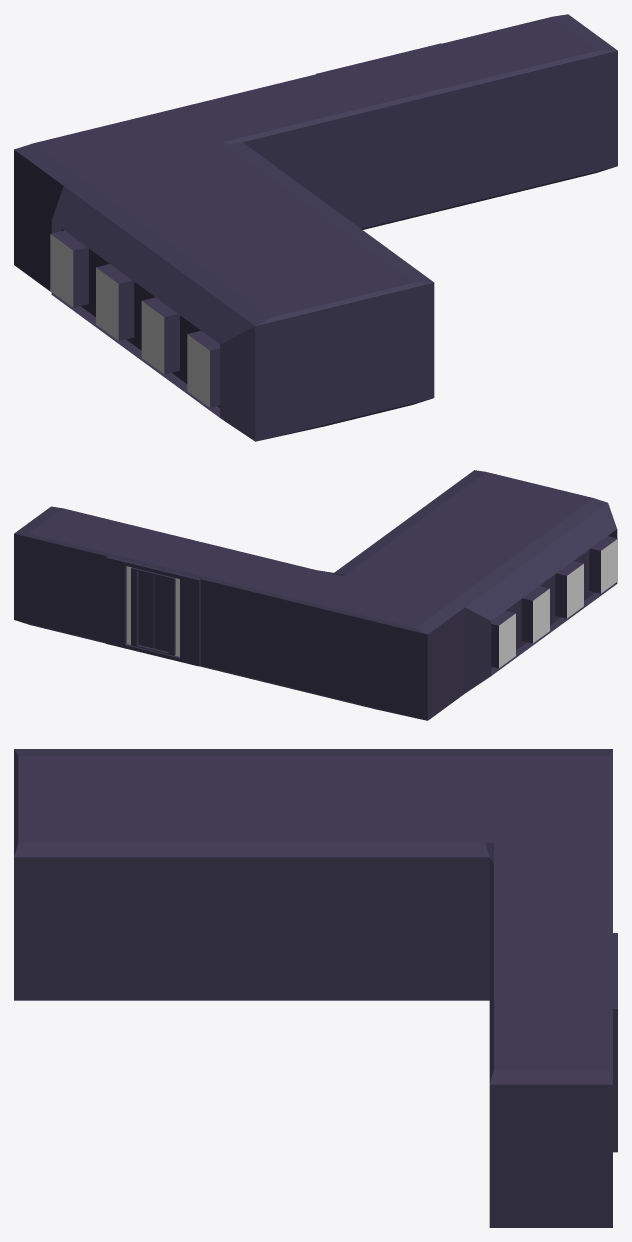
Rendered from facilityv2.fbx.
3 renders of one model, top to bottom at view 1: azimuth 30°, elevation 25°; view 2: azimuth 150°, elevation 25°; view 3: azimuth 270°, elevation 25°, orthographic. The views are drawn at different scales.
Visible parts, largest first — view 1: Cube; view 2: Cube; view 3: Cube.
Boxes of the visible parts, x1=… form: Cube: x1=14, y1=14, x2=617, y2=441; Cube: x1=14, y1=470, x2=617, y2=720; Cube: x1=14, y1=749, x2=617, y2=1227.
Size of the model in its own units: 1354 by 271 by 978.
